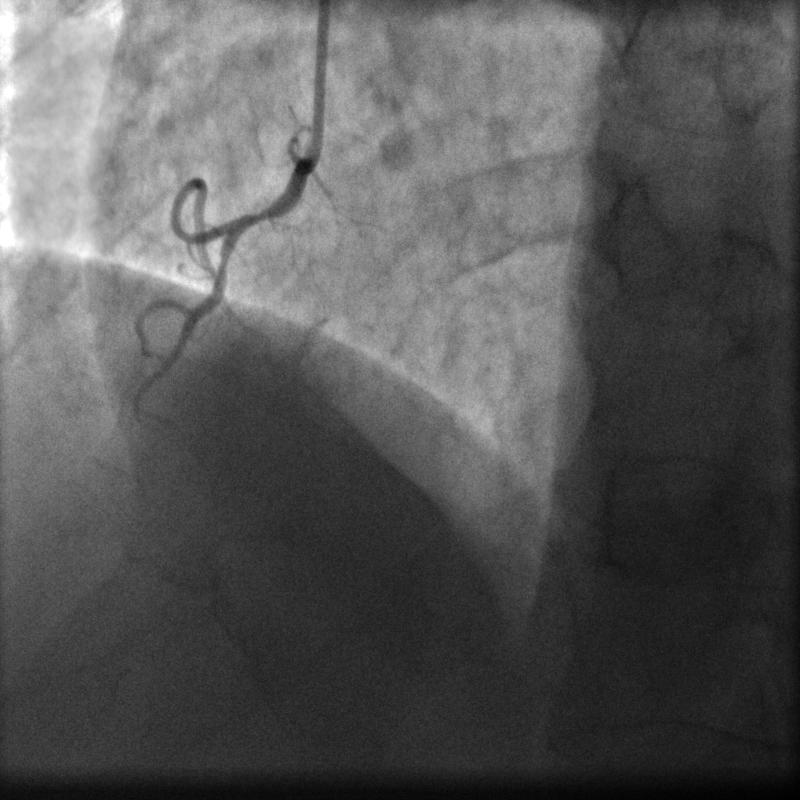Stenosis: (236, 192, 285, 230)
